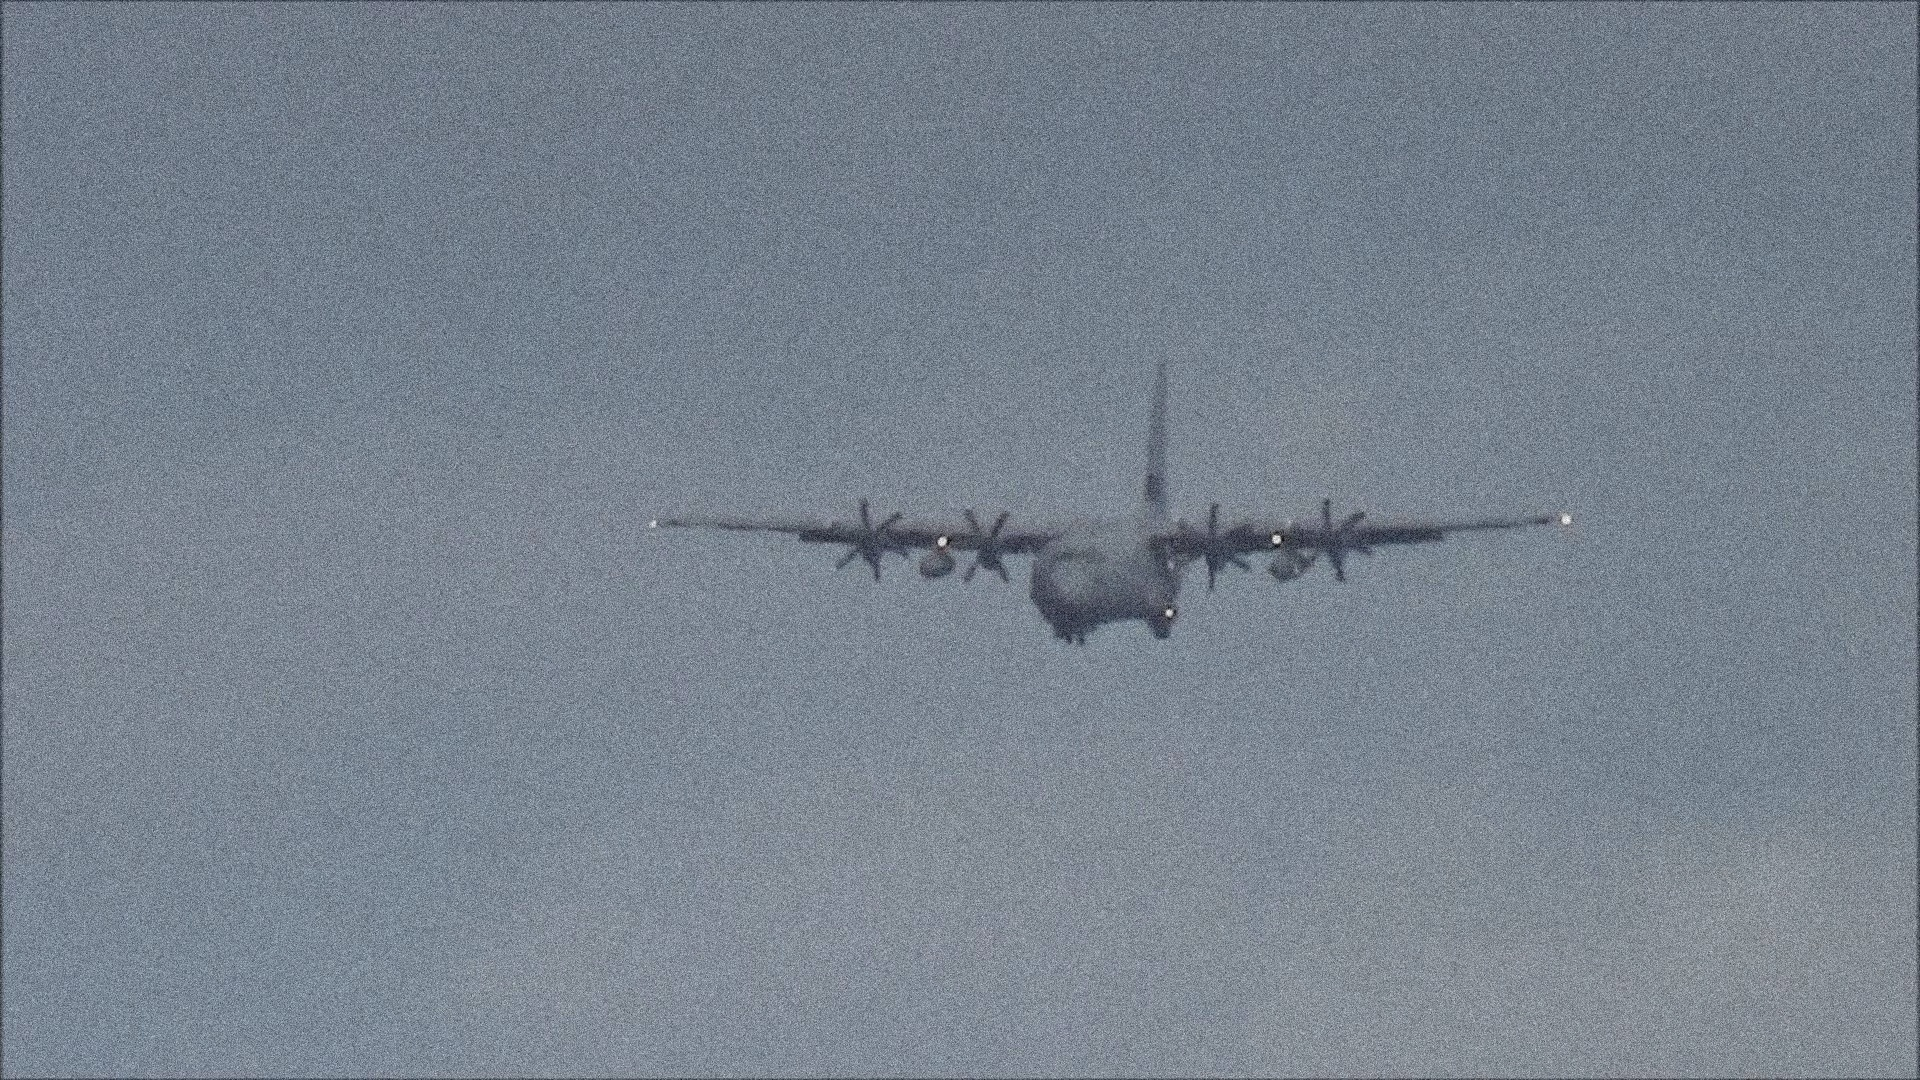Airplane: (654, 368, 1567, 647)
